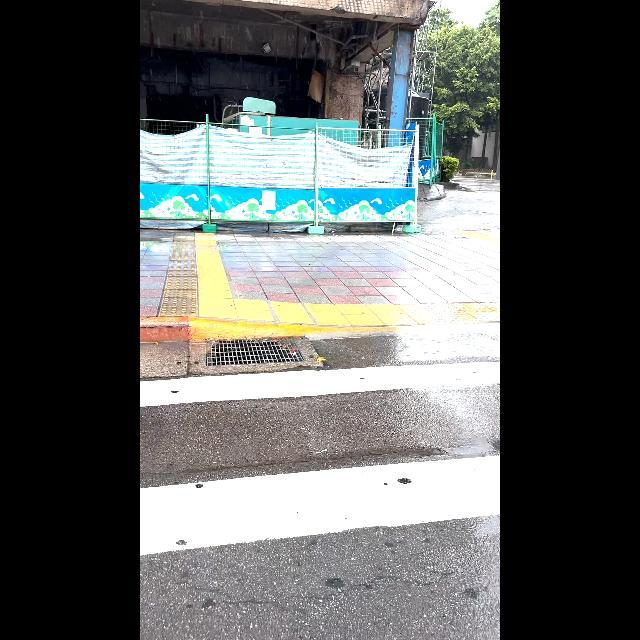sidewalk: (142, 358, 499, 560)
